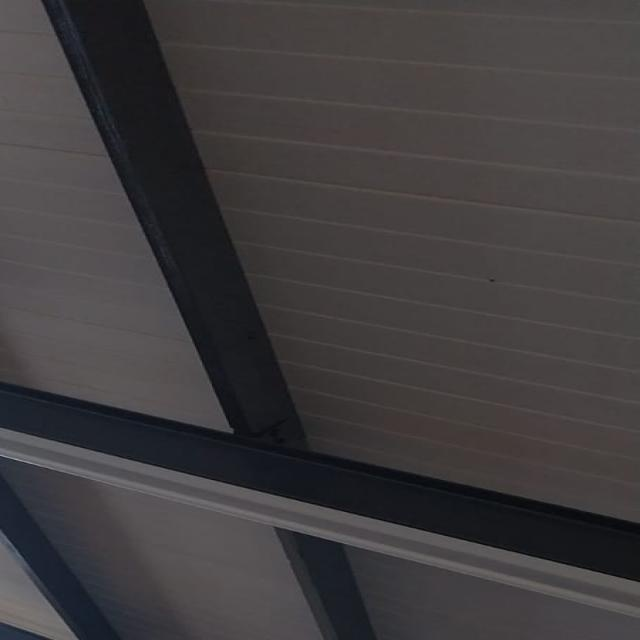fluorescent tube: (0, 402, 640, 628)
